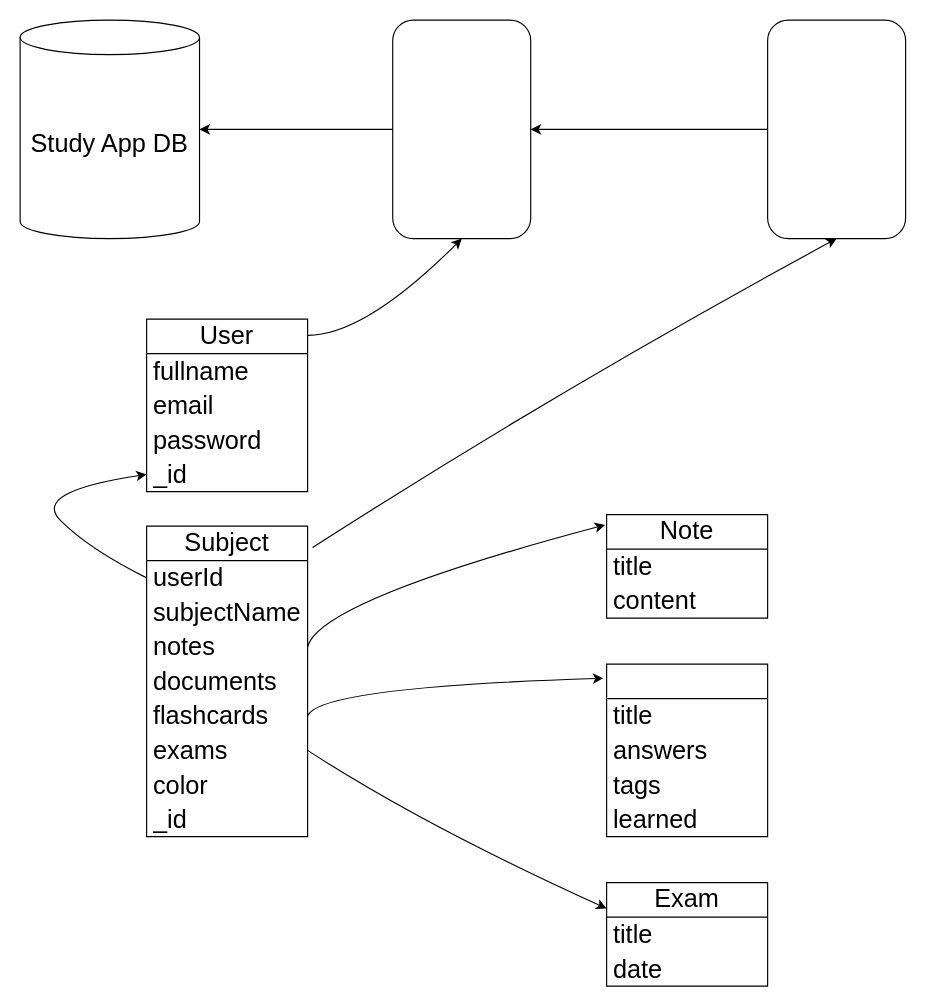
Some shapes in this 926 by 1006 pixel diagram are drawn without their labels. The box of each missing label's shape, as (x1, y1, x2, y2) in pixels:
Flashcard: (605, 663, 768, 837)
Subjects: (766, 19, 906, 239)
Users: (392, 19, 531, 239)
